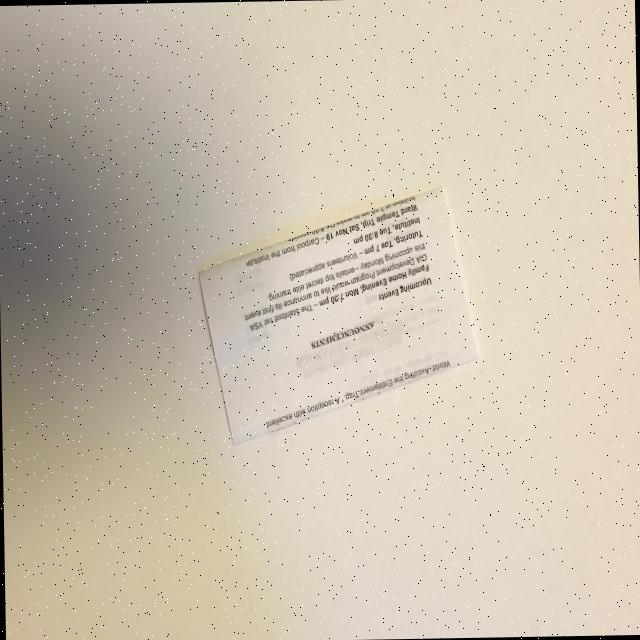paper: (0, 0, 640, 640), (195, 183, 480, 446)
